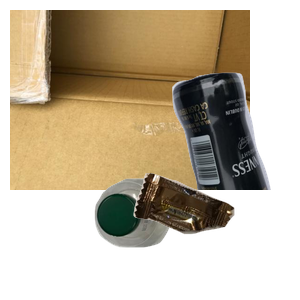cardboard: (10, 10, 250, 190)
glass: (106, 70, 300, 250)
plastic: (92, 176, 257, 300)
trash: (131, 171, 300, 300)
